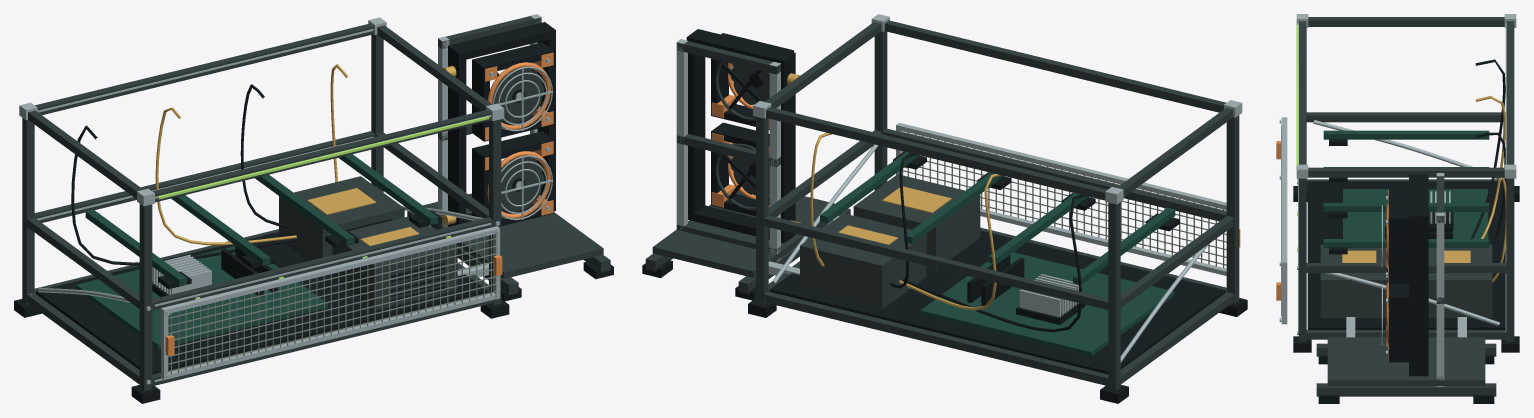
The model's file is rig-4-frame-filtered-air.glb.
3 renders of one model, left to right at view 1: azimuth 30°, elevation 25°; view 2: azimuth 150°, elevation 25°; view 3: azimuth 270°, elevation 25°, orthographic. The views are drawn at different scales.
Parts seen in each view (by area): view 1: Anodized graphite (×4), Rubber and ABS (×4), Brushed aluminium (×5), Circuit board, Filter fibres, Industrial orange (×2), Contacts, rig-4-frame-filtered-air, slot-cable-1, slot-cable-2, slot-cable-3; view 2: Anodized graphite (×3), Rubber and ABS (×4), Circuit board, Brushed aluminium (×3), Filter fibres, Contacts, slot-cable-1, slot-cable-2, Industrial orange; view 3: Anodized graphite (×2), Rubber and ABS (×5), Circuit board, Brushed aluminium (×3), Contacts, slot-cable-1, slot-cable-2, rig-4-frame-filtered-air, slot-cable-3, slot-cable-4.
Part boxes in pixels (bbox=[...]): Anodized graphite (×4): bbox=[22, 16, 610, 390]; Rubber and ABS (×4): bbox=[14, 22, 555, 403]; Brushed aluminium (×5): bbox=[19, 14, 553, 384]; Circuit board: bbox=[76, 154, 437, 349]; Filter fibres: bbox=[168, 235, 496, 374]; Industrial orange (×2): bbox=[485, 52, 553, 218]; Contacts: bbox=[307, 188, 419, 246]; rig-4-frame-filtered-air: bbox=[158, 116, 489, 199]; slot-cable-1: bbox=[71, 125, 299, 265]; slot-cable-2: bbox=[155, 107, 296, 245]; slot-cable-3: bbox=[240, 84, 287, 227]; Anodized graphite (×3): bbox=[645, 20, 1239, 390]; Rubber and ABS (×4): bbox=[686, 29, 1247, 403]; Circuit board: bbox=[820, 152, 1175, 356]; Brushed aluminium (×3): bbox=[676, 14, 1242, 362]; Filter fibres: bbox=[903, 132, 1226, 267]; Contacts: bbox=[838, 186, 951, 244]; slot-cable-1: bbox=[901, 194, 1084, 332]; slot-cable-2: bbox=[899, 174, 1000, 310]; Industrial orange: bbox=[711, 132, 769, 207]; Anodized graphite (×2): bbox=[1298, 17, 1514, 396]; Rubber and ABS (×5): bbox=[1293, 139, 1519, 403]; Circuit board: bbox=[1323, 130, 1489, 247]; Brushed aluminium (×3): bbox=[1281, 14, 1516, 386]; Contacts: bbox=[1342, 250, 1470, 262]; slot-cable-1: bbox=[1471, 59, 1505, 238]; slot-cable-2: bbox=[1475, 96, 1505, 238]; rig-4-frame-filtered-air: bbox=[1296, 24, 1298, 168]; slot-cable-3: bbox=[1475, 132, 1506, 249]; slot-cable-4: bbox=[1492, 177, 1506, 282].
Size of the model in its own units: 8.02 by 3.32 by 3.94.
